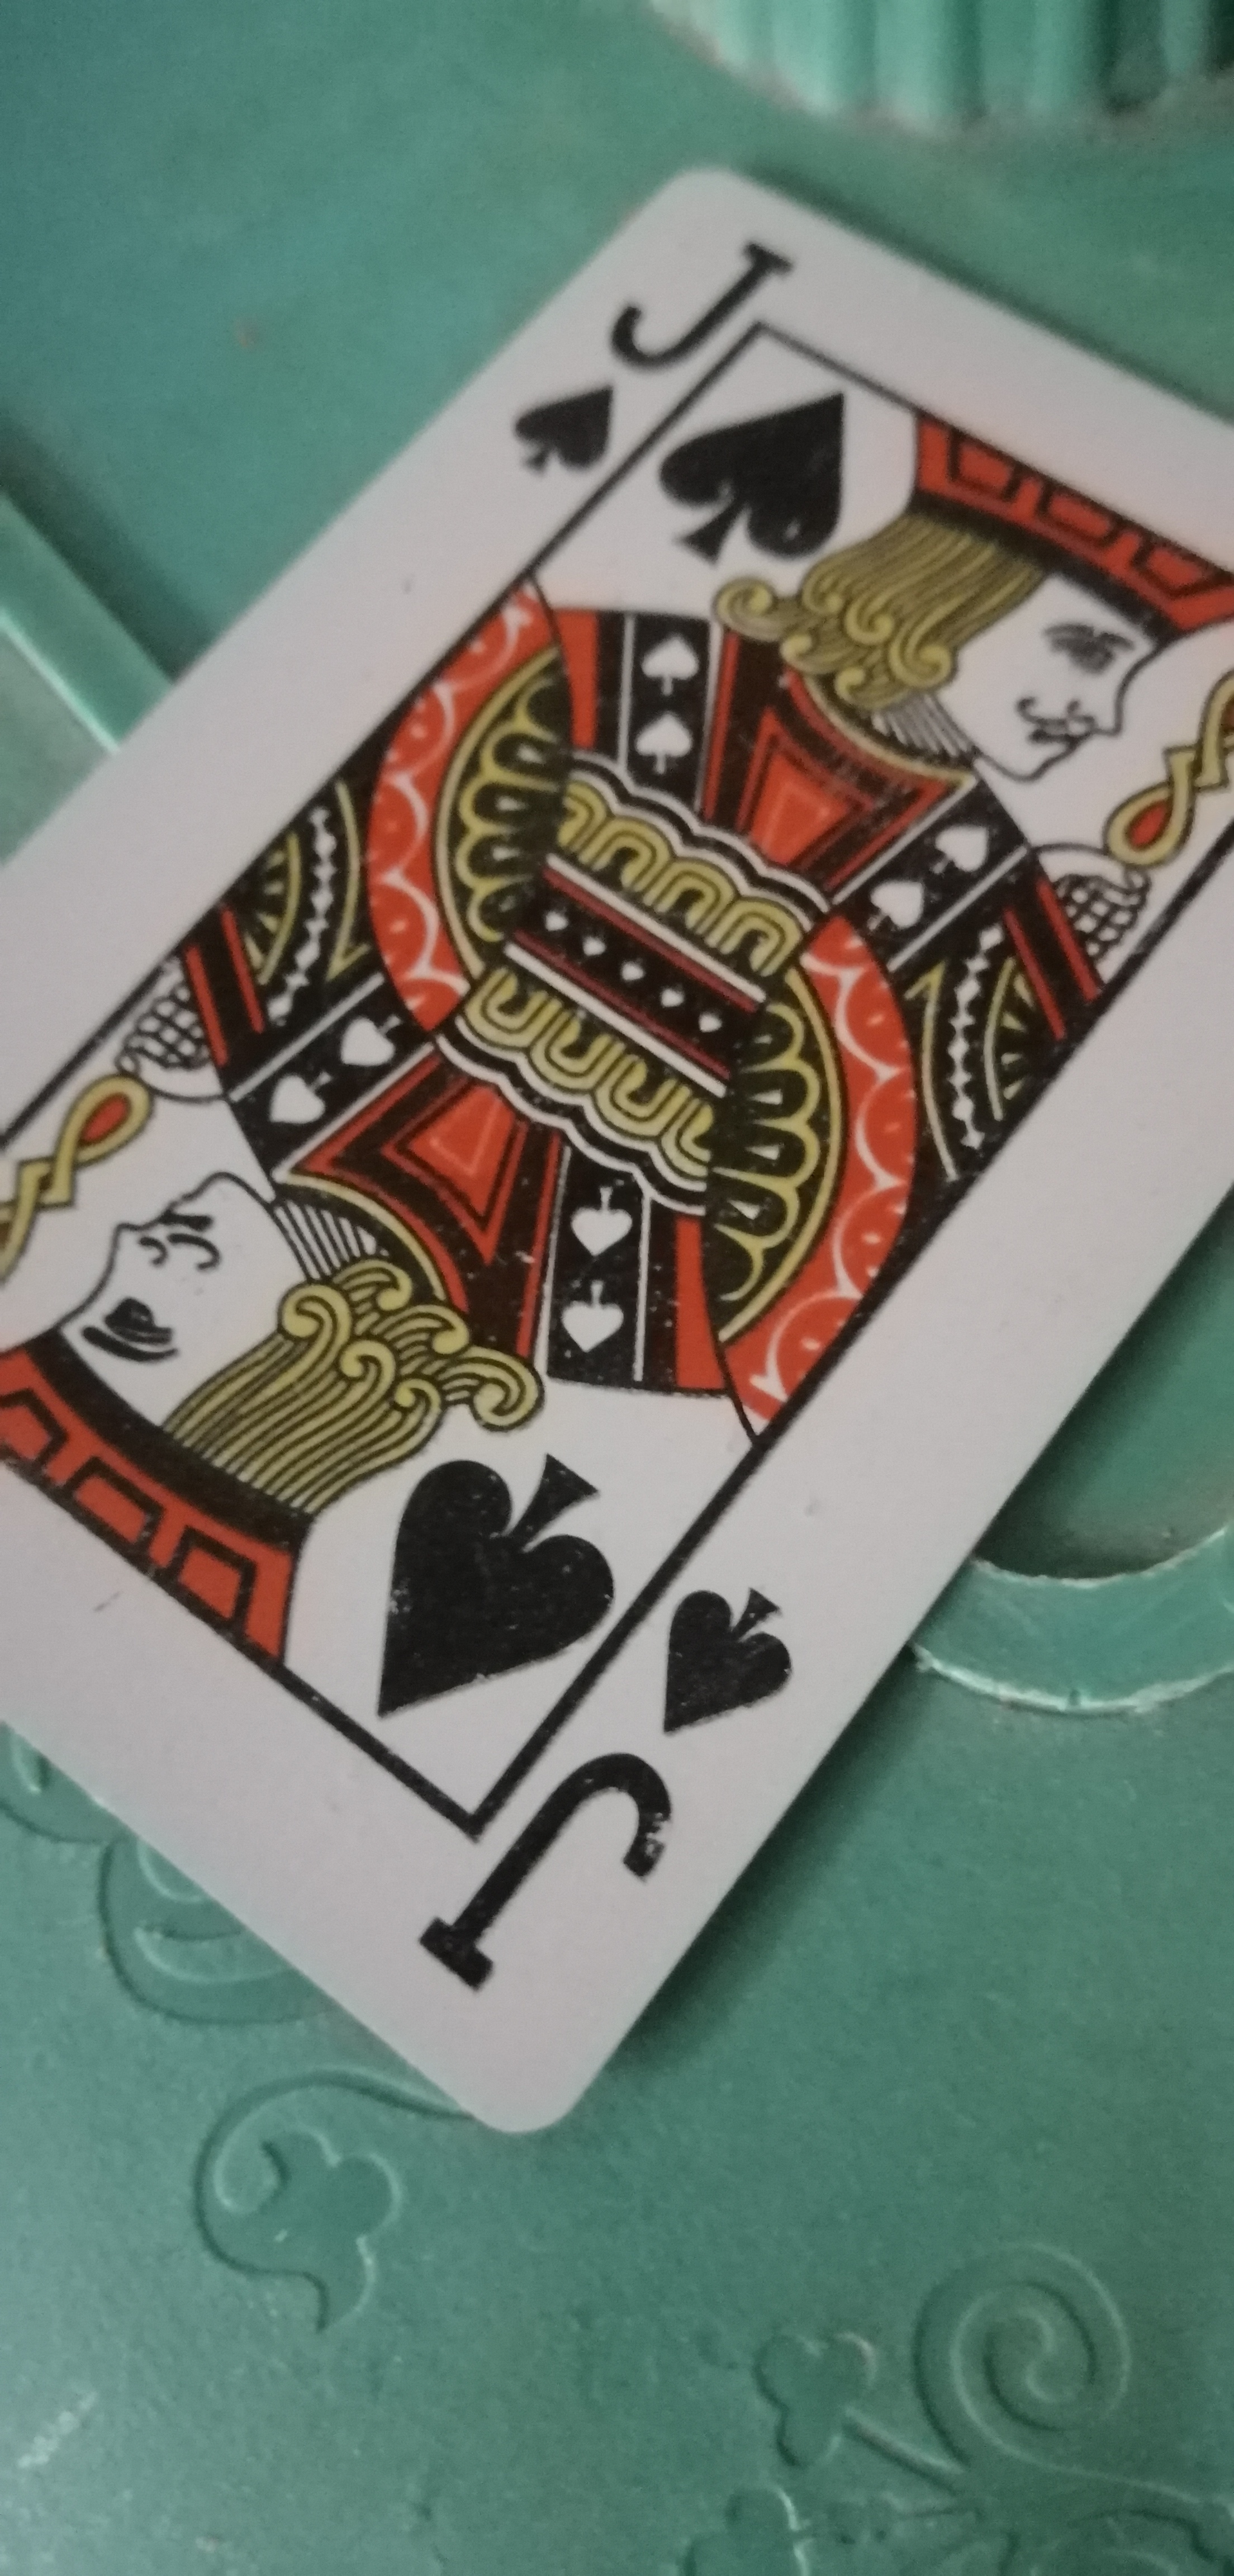jack: (48, 168, 1213, 2111)
